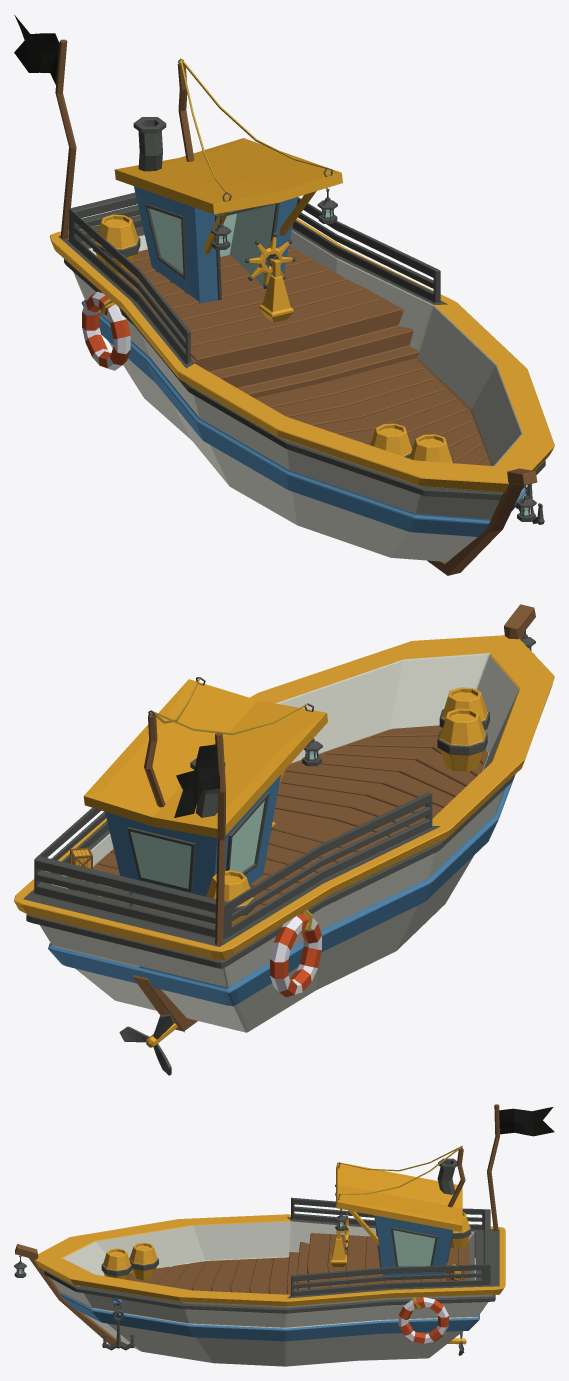
File: Etire_boat.glb
3 views of the same model, one above another, from view 1: azimuth 30°, elevation 25°; view 2: azimuth 150°, elevation 25°; view 3: azimuth 270°, elevation 25° (orthographic). The views are drawn at different scales.
Visible parts, largest first — view 1: Cabin; view 2: Cabin, Propeller; view 3: Cabin.
Boxes of the visible parts, x1=… form: Cabin: x1=14, y1=15, x2=554, y2=575; Cabin: x1=14, y1=604, x2=554, y2=1032; Propeller: x1=119, y1=1013, x2=177, y2=1075; Cabin: x1=14, y1=1104, x2=554, y2=1366.
Bounding box in the file's own units: 0.7233 × 0.8793 × 1.9.
1 material, 1 textured.
